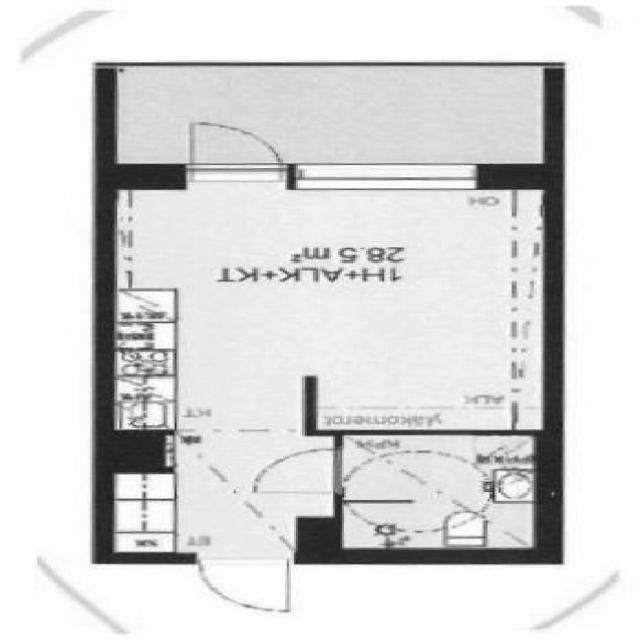door: (181, 556, 303, 616), (245, 444, 354, 497), (178, 118, 283, 171)
window: (290, 163, 483, 186)
zone: (100, 190, 553, 432), (89, 436, 319, 558), (337, 435, 537, 552)
